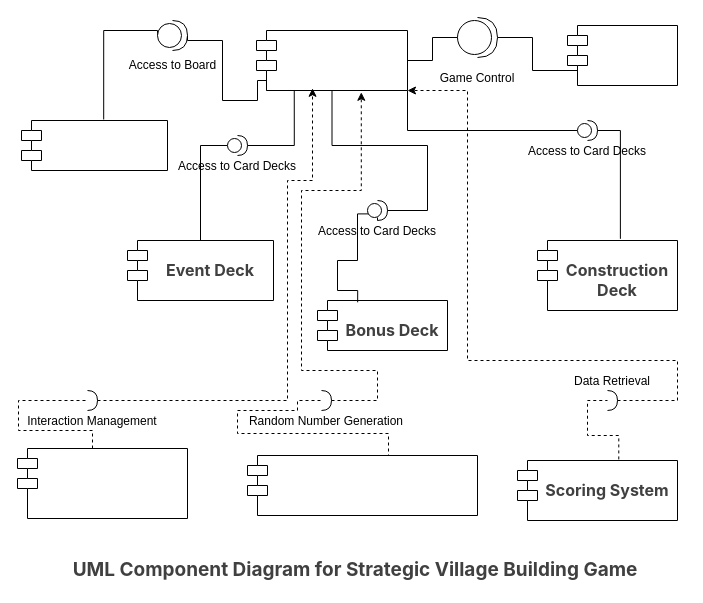
This 703x603 diagram has some shape labels left out. The shapes that lost their labels are listed below. From the top down, each one's centre as x and y in pixels, then its label:
At (332,60): "Game Engine".
At (622,55): "Player".
At (94,145): "Game Board".
At (102,483): "Player Interaction System".
At (362,485): "Random Event Generator".
